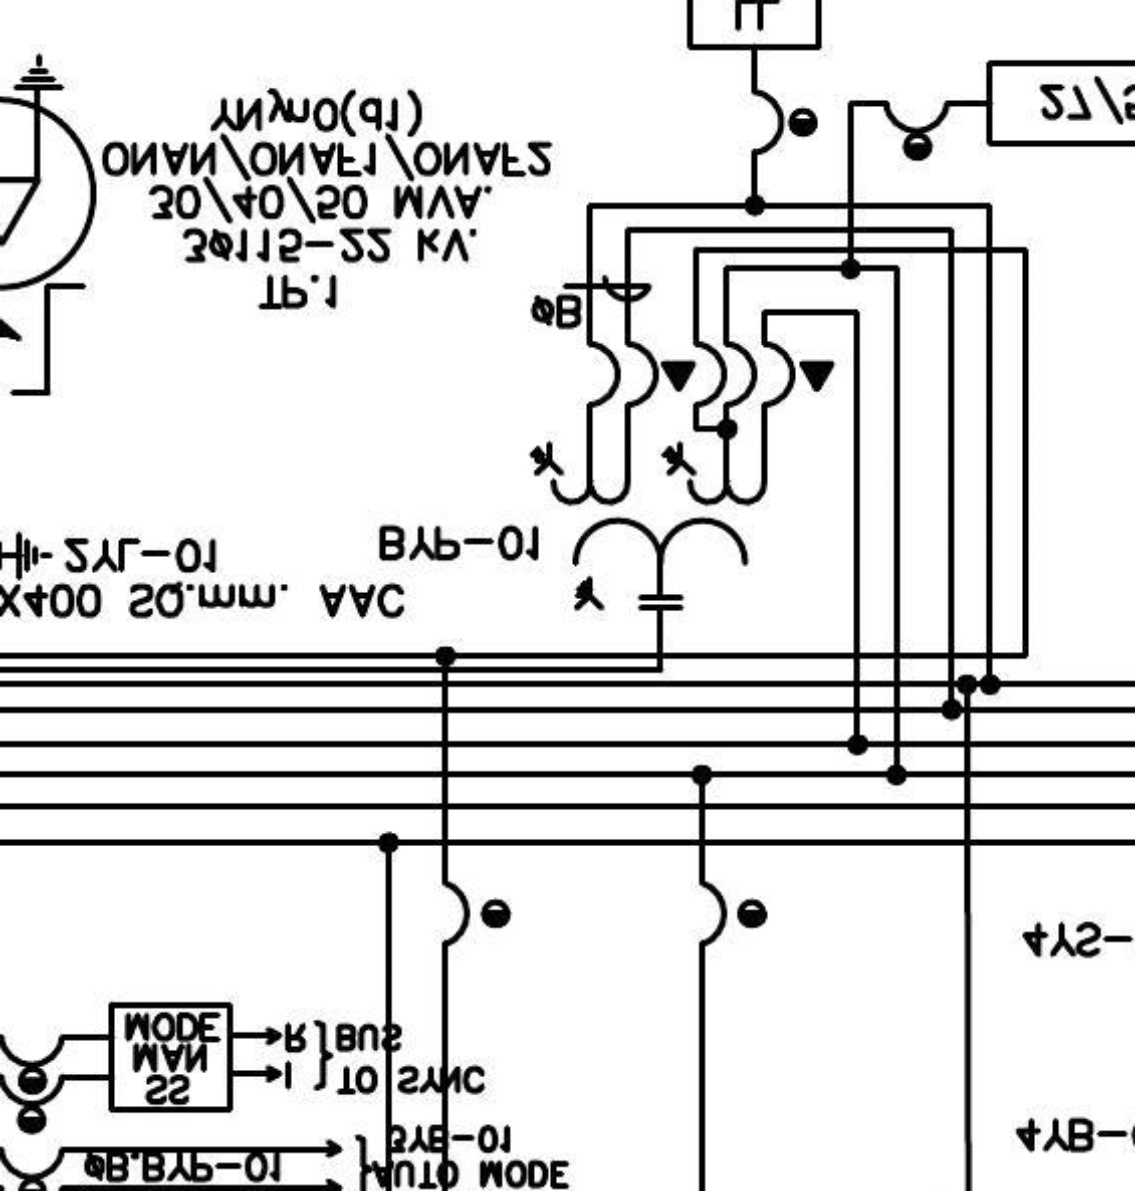115_cvt_3p: (527, 440, 769, 612)
ss_man_mode: (107, 1001, 234, 1114)
